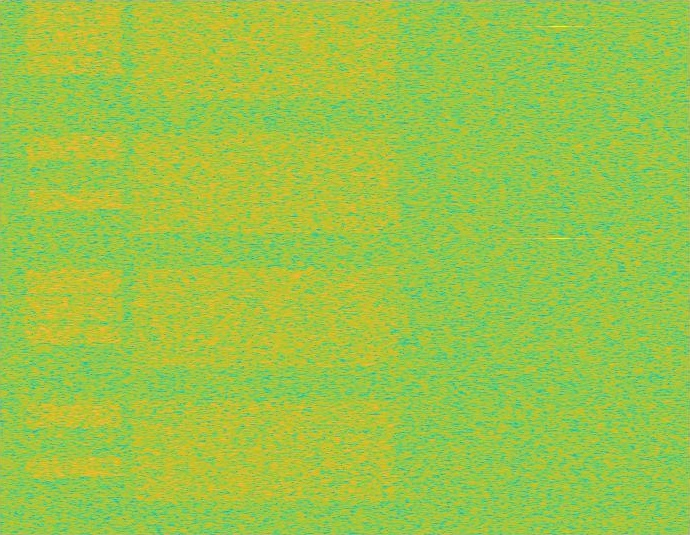5G: (127, 0, 403, 534)
LTE: (22, 0, 126, 534)
Radar: (553, 0, 567, 534)
